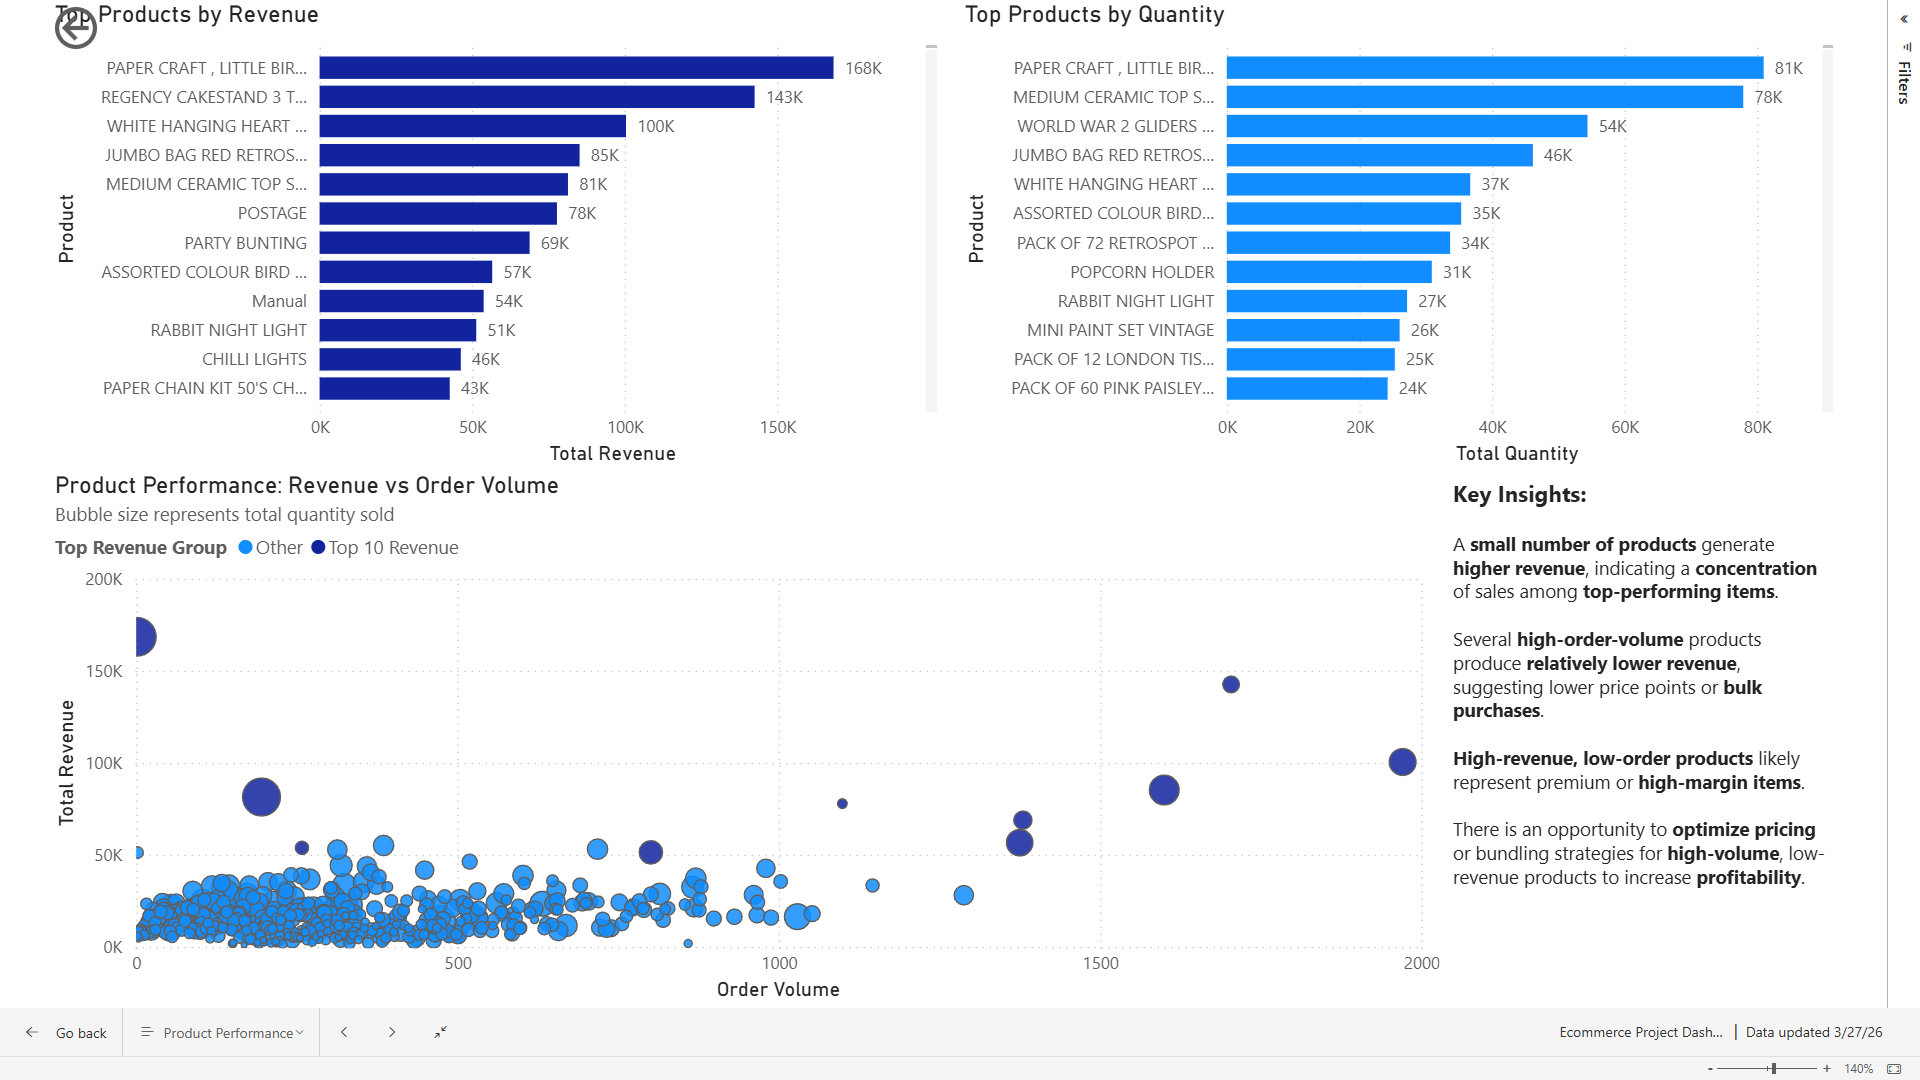

The page's visual inventory and layout, read from the dashboard file:
{"tool":"powerbi","page":{"name":"Product Performance","canvas":[1280,720],"ordinal":2},"visuals":[{"type":"barChart","title":"Top Products by Revenue","fields":{"Category":["product_summary.Description"],"Y":["Sum(product_summary.TotalRevenue)"]},"box":[0,0,640,336.5],"z":0},{"type":"barChart","title":"Top Products by Quantity","fields":{"Category":["product_summary.Description"],"Y":["Sum(product_summary.TotalQuantity)"]},"box":[649.7,0,630.3,336.5],"z":1000},{"type":"scatterChart","title":"Product Performance: Revenue vs Order Volume","fields":{"X":["product_summary.OrderCount"],"Y":["Sum(product_summary.TotalRevenue)"],"Series":["product_summary.Top Revenue Group"],"Size":["Sum(product_summary.TotalQuantity)"]},"box":[0,336.5,998.9,383.2],"z":2000},{"type":"textbox","box":[998.9,336.5,281.1,383.2],"z":3000},{"type":"actionButton","box":[0,0,100,40],"z":4000}]}

Visuals, with their boxes on the page's 1280x720 design canvas (x1, y1, x2, y2). These are canvas units, not pixel positions in the 1920x1080 screenshot, which may show the page scaled, cropped or inside an application window:
"Top Products by Revenue" barChart: l=0, t=0, r=640, b=336
"Top Products by Quantity" barChart: l=650, t=0, r=1280, b=336
"Product Performance: Revenue vs Order Volume" scatterChart: l=0, t=336, r=999, b=720
textbox: l=999, t=336, r=1280, b=720
actionButton: l=0, t=0, r=100, b=40
